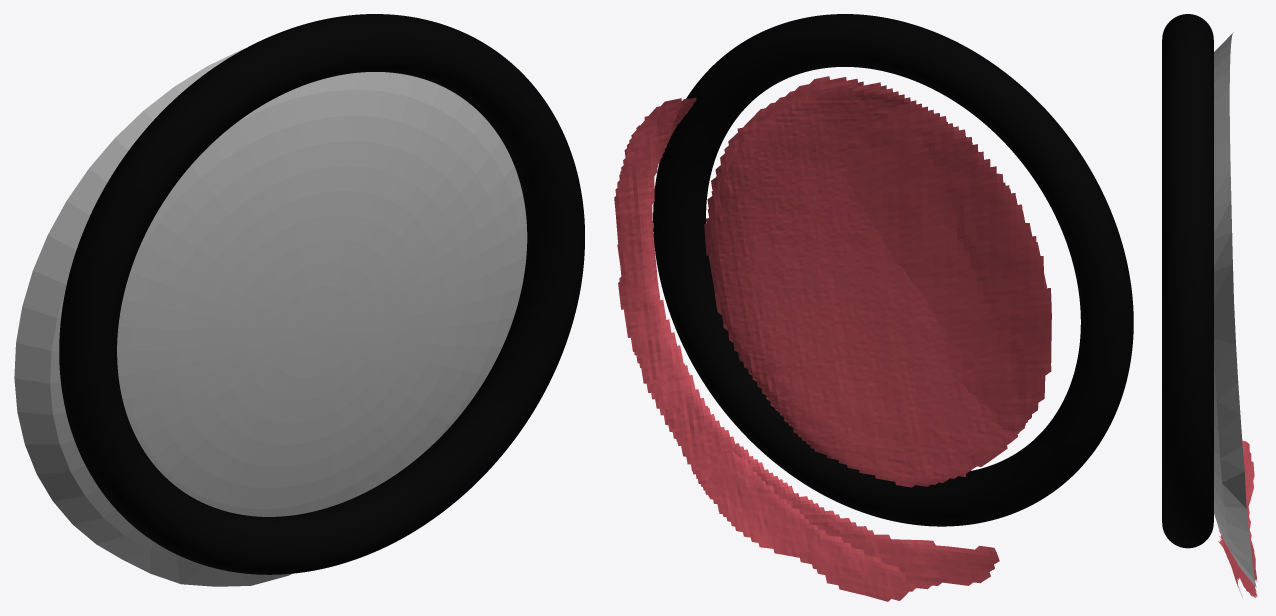
The model's file is G06_H4_FULL_HERO.glb.
The picture shows the model from 3 angles, left to right: view 1: azimuth 30°, elevation 25°; view 2: azimuth 150°, elevation 25°; view 3: azimuth 270°, elevation 25°; orthographic projection. The views are drawn at different scales.
Parts seen in each view (by area): view 1: Body_A3, Ring; view 2: 004_G06_v004_raw00744, Ring, 004_G06_v004_raw00046; view 3: Ring, Body_A3, 004_G06_v004_raw00046, 004_G06_v004_raw00744.
Boxes of the visible parts, x1,y1,x2,y2 form: Body_A3: (14,48,527,586); Ring: (59,14,584,574); 004_G06_v004_raw00744: (615,92,1046,601); Ring: (653,14,1133,526); 004_G06_v004_raw00046: (614,76,1051,591); Ring: (1162,14,1213,548); Body_A3: (1214,32,1256,587); 004_G06_v004_raw00046: (1218,440,1254,596); 004_G06_v004_raw00744: (1218,527,1257,597).
Bounding box in the file's own units: 0.0133 × 0.0137 × 0.00231.
